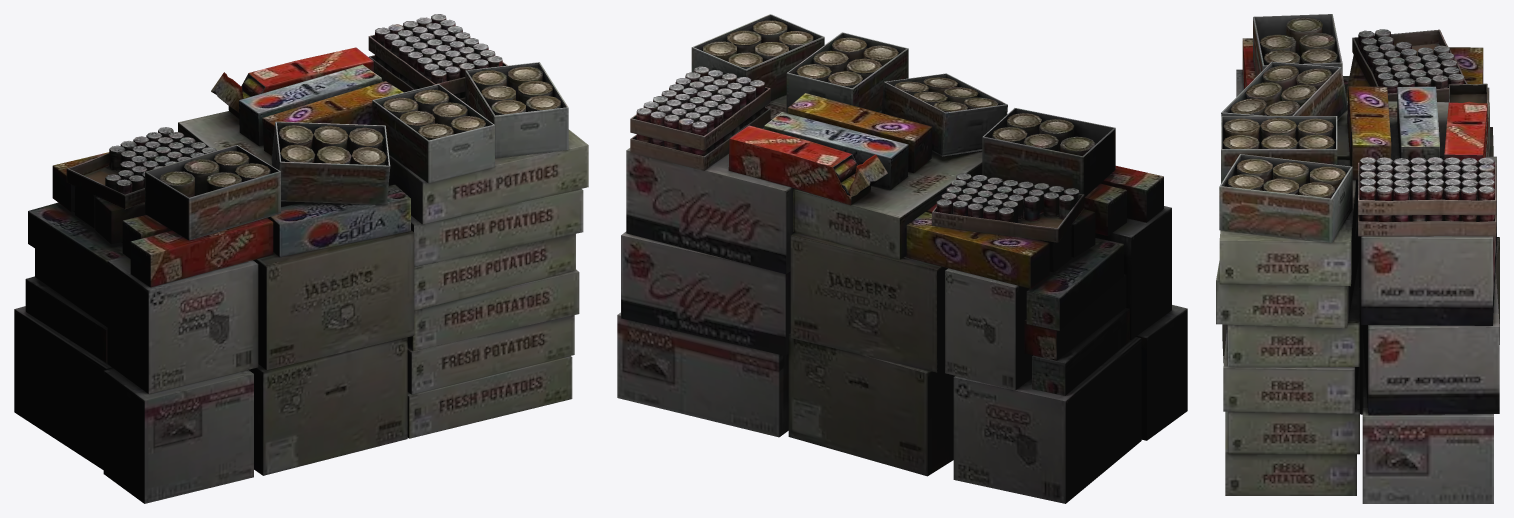
File: food_stack.glb
The picture shows the model from 3 angles, left to right: view 1: azimuth 30°, elevation 25°; view 2: azimuth 150°, elevation 25°; view 3: azimuth 270°, elevation 25°; orthographic projection. The views are drawn at different scales.
Parts seen in each view (by area): view 1: 1_food_stack3, 0_food_stack2, 2_food_stack; view 2: 0_food_stack2, 2_food_stack, 1_food_stack3; view 3: 2_food_stack, 1_food_stack3, 0_food_stack2.
Part boxes in pixels (left/top/right/bottom): 1_food_stack3: left=25, top=111, right=588, bottom=438; 0_food_stack2: left=14, top=47, right=414, bottom=475; 2_food_stack: left=66, top=14, right=568, bottom=503; 0_food_stack2: left=621, top=112, right=1171, bottom=503; 2_food_stack: left=617, top=14, right=1187, bottom=440; 1_food_stack3: left=765, top=95, right=1163, bottom=395; 2_food_stack: left=1219, top=14, right=1496, bottom=503; 1_food_stack3: left=1216, top=38, right=1489, bottom=495; 0_food_stack2: left=1222, top=69, right=1499, bottom=415.
Size of the model in its own units: 2.52 by 1.58 by 1.33.
Materials: 3 (3 with a texture image).
